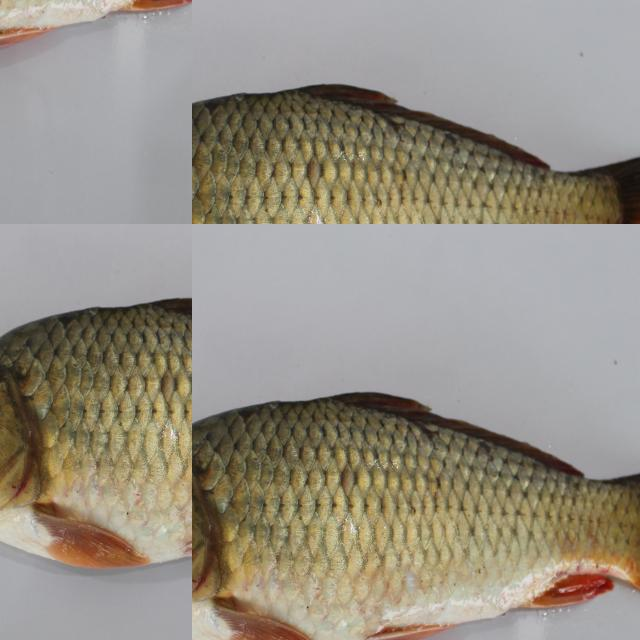fish: (192, 368, 640, 640)
